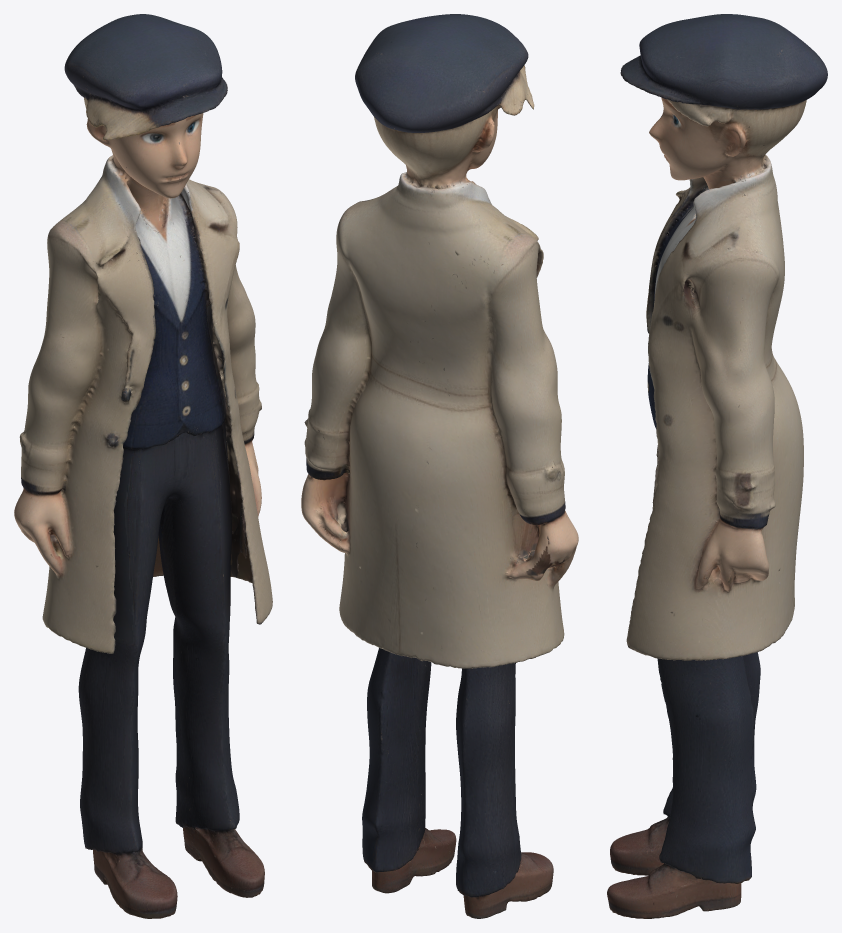
File: player_game.glb
The picture shows the model from 3 angles, left to right: view 1: azimuth 30°, elevation 25°; view 2: azimuth 150°, elevation 25°; view 3: azimuth 270°, elevation 25°; orthographic projection. The views are drawn at different scales.
Size of the model in its own units: 0.6165 by 2 by 0.4638.
1 material, 1 textured.
